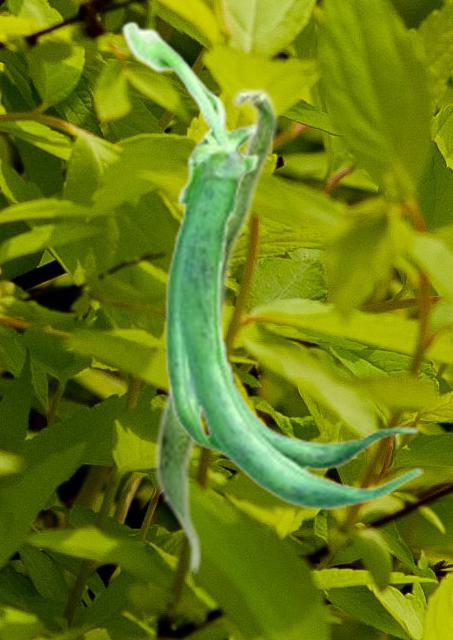french_bean: (120, 20, 422, 510), (153, 86, 278, 576)
